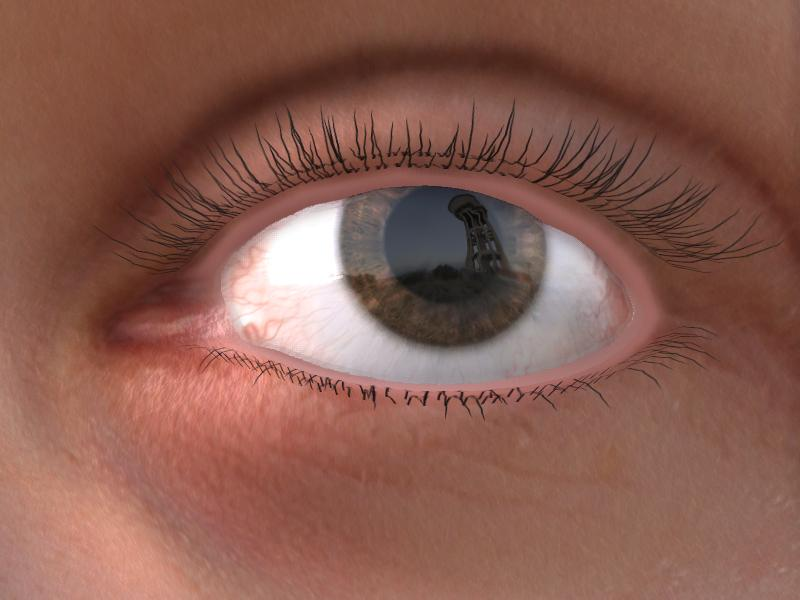eye: (341, 184, 551, 348)
